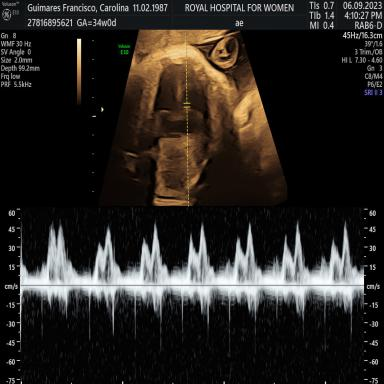Ultrasound-Waves: (29, 208, 363, 384)
